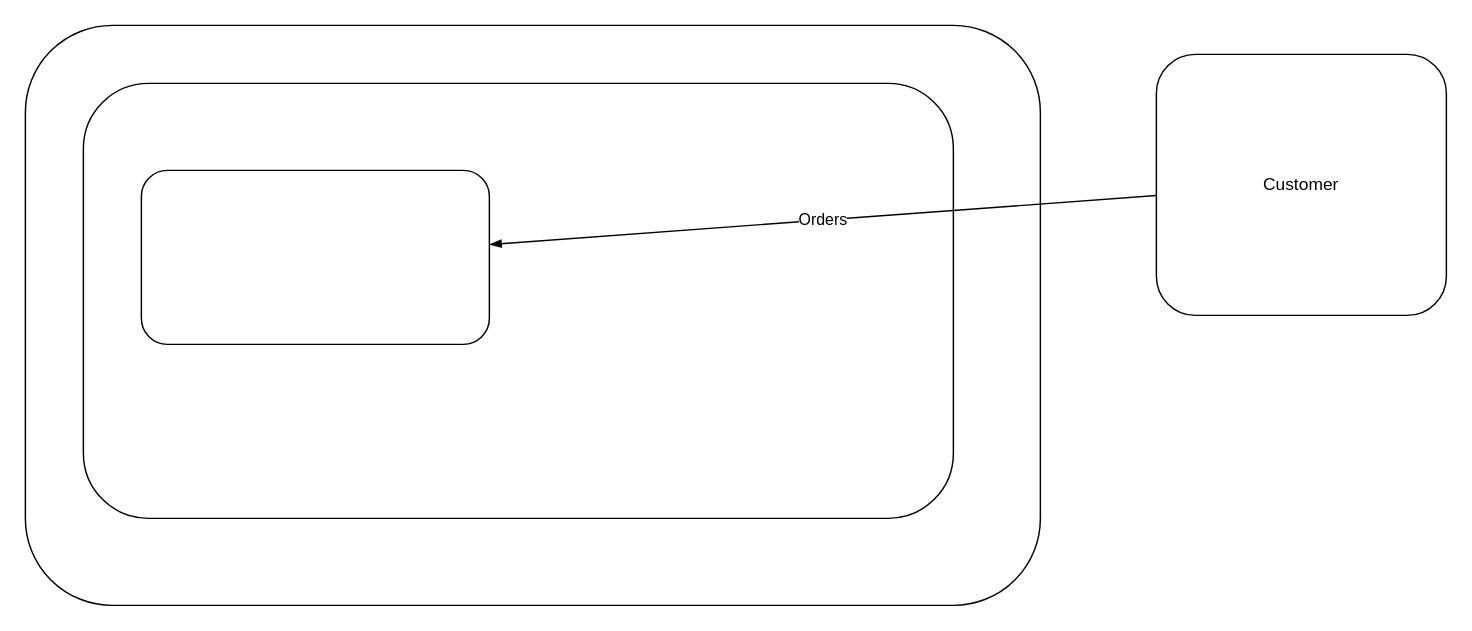
Some shapes in this 1472 by 631 pixel diagram are drawn without their labels. The shapes that lost their labels are listed below. From the top down, each one's box as (x1, y1, x2, y2) in pixels, then its label:
(140, 169, 489, 344): Order Service
(82, 82, 953, 518): API
